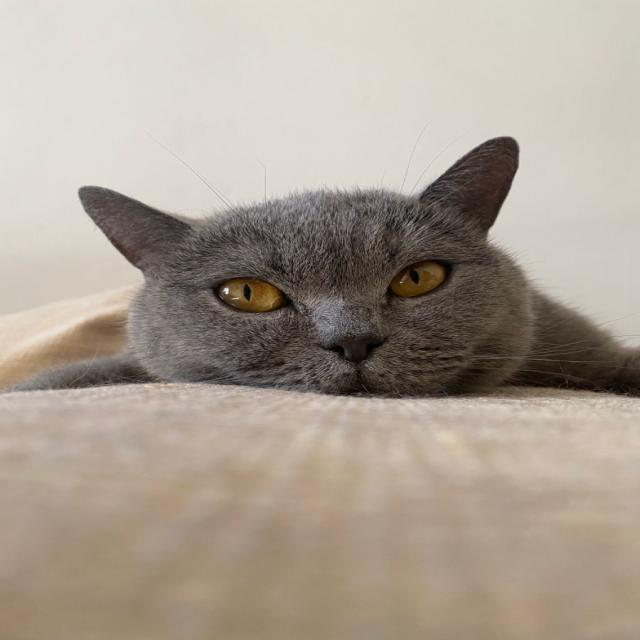british shorthair: (0, 93, 640, 552)
